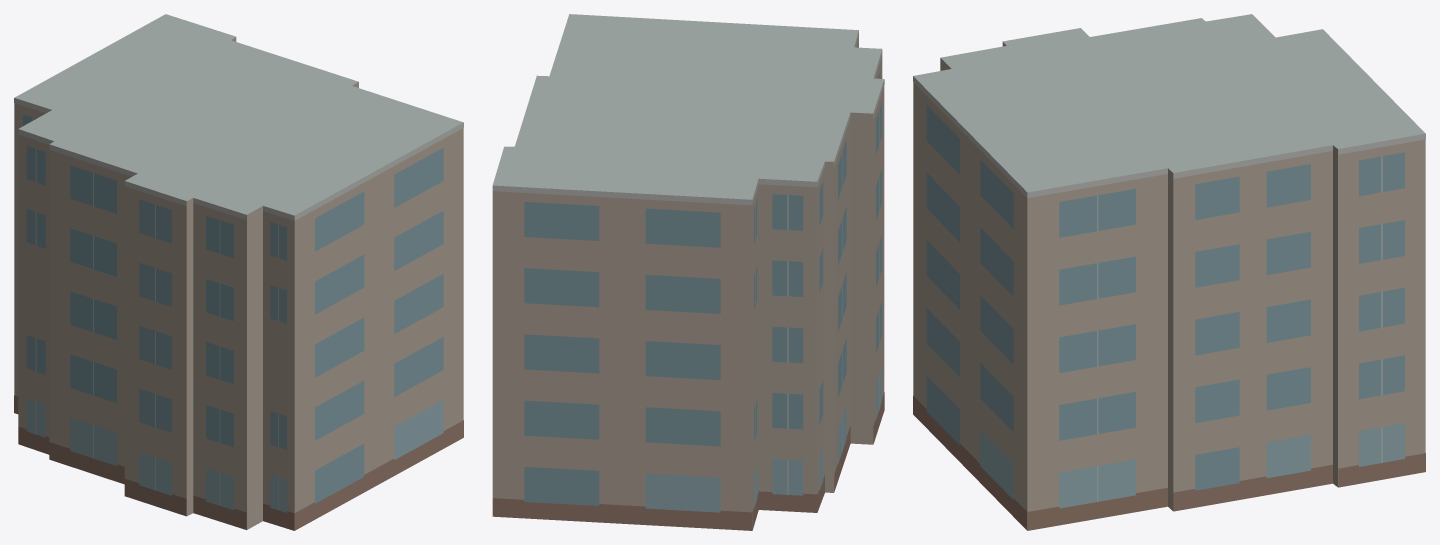
Rendered from survey-upis-32722744.glb.
The picture shows the model from 3 angles, left to right: view 1: azimuth 30°, elevation 25°; view 2: azimuth 150°, elevation 25°; view 3: azimuth 270°, elevation 25°; orthographic projection. The views are drawn at different scales.
Parts seen in each view (by area): view 1: survey-upis-32722744.tmp; view 2: survey-upis-32722744.tmp; view 3: survey-upis-32722744.tmp.
Part boxes in pixels (box(x1,y1,x2,y2)): survey-upis-32722744.tmp: box(14, 14, 463, 530); survey-upis-32722744.tmp: box(492, 14, 884, 530); survey-upis-32722744.tmp: box(913, 14, 1425, 530).
Bounding box in the file's own units: 16.41 × 14.5 × 19.92.
